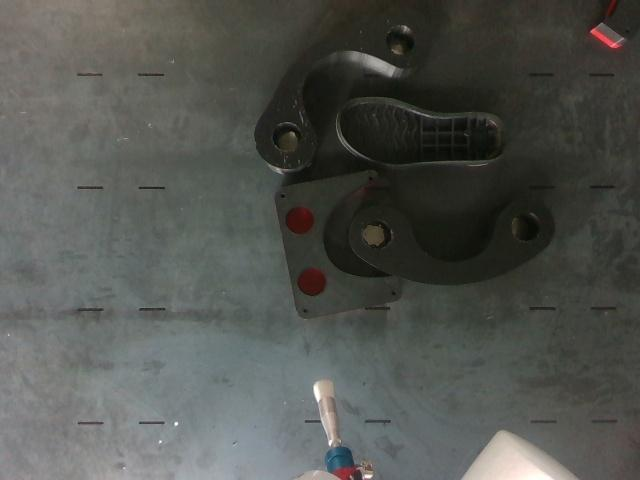shoes: (340, 97, 506, 165)
